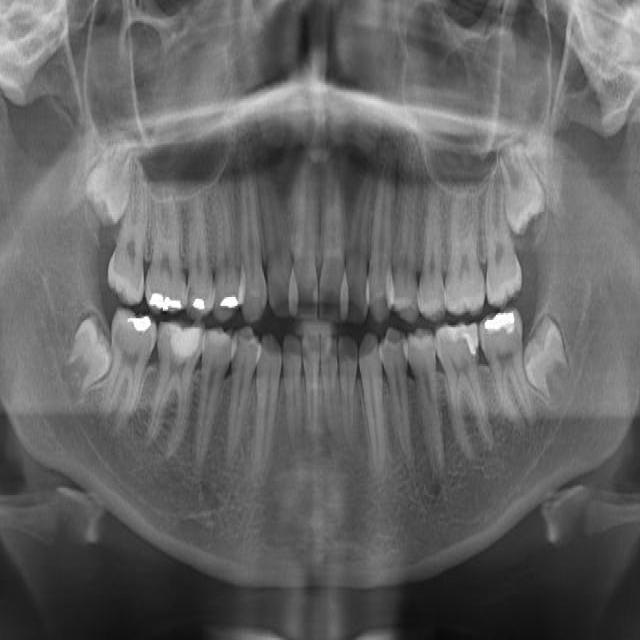dolgu: (114, 304, 158, 348), (478, 305, 521, 349), (145, 277, 187, 316), (212, 283, 244, 318), (187, 276, 212, 316)
